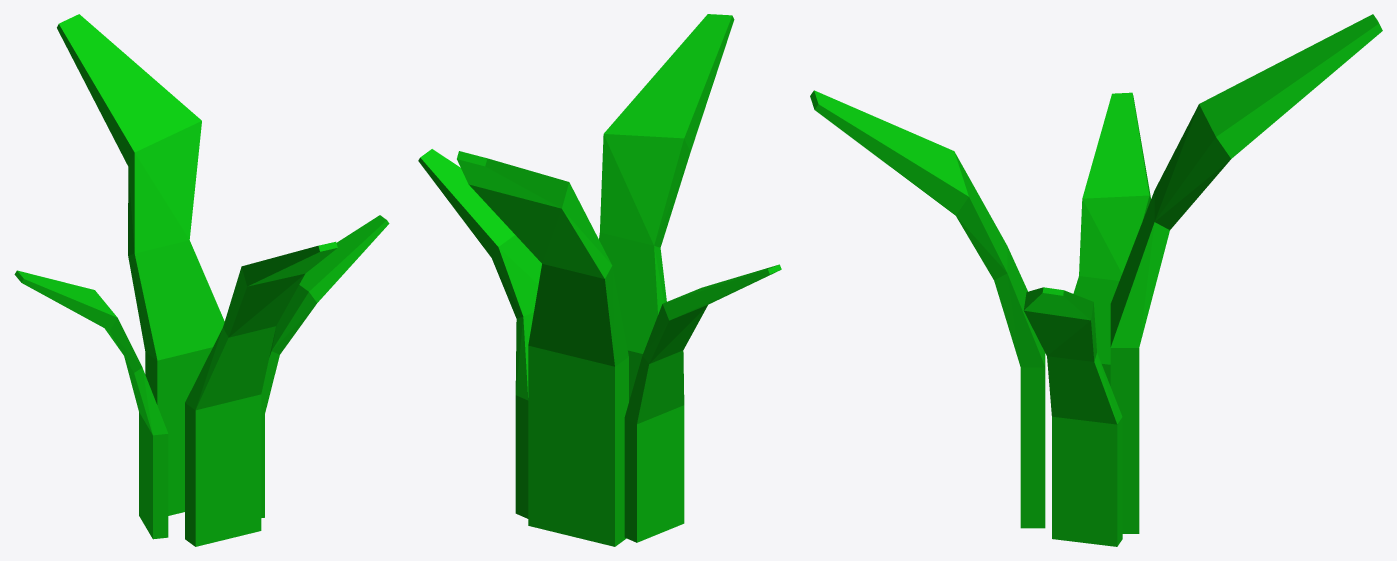
Rendered from tuftGrass.obj.
The picture shows the model from 3 angles, left to right: view 1: azimuth 30°, elevation 25°; view 2: azimuth 150°, elevation 25°; view 3: azimuth 270°, elevation 25°; orthographic projection. The views are drawn at different scales.
Parts seen in each view (by area): view 1: Tuft_Cube.002; view 2: Tuft_Cube.002; view 3: Tuft_Cube.002.
Part boxes in pixels (x1,y1,x2,y2): Tuft_Cube.002: [14, 14, 389, 546]; Tuft_Cube.002: [418, 14, 781, 546]; Tuft_Cube.002: [810, 14, 1382, 546].
Size of the model in its own units: 0.4733 by 0.5507 by 0.5862.
